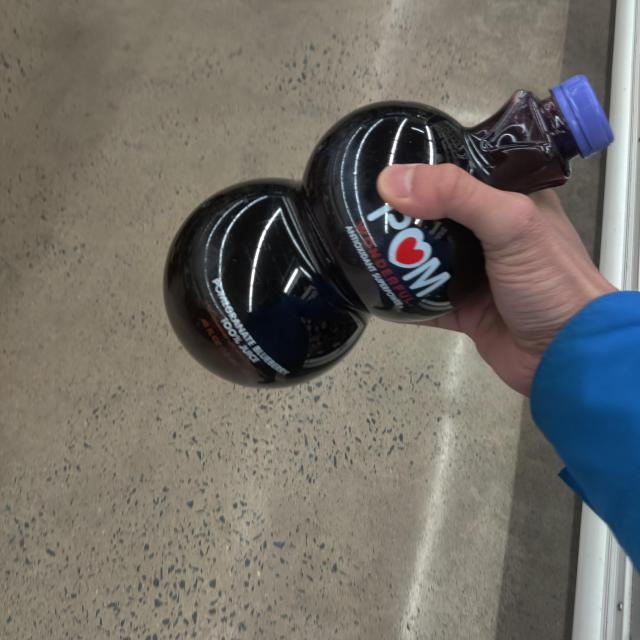Juice: (159, 56, 640, 402)
